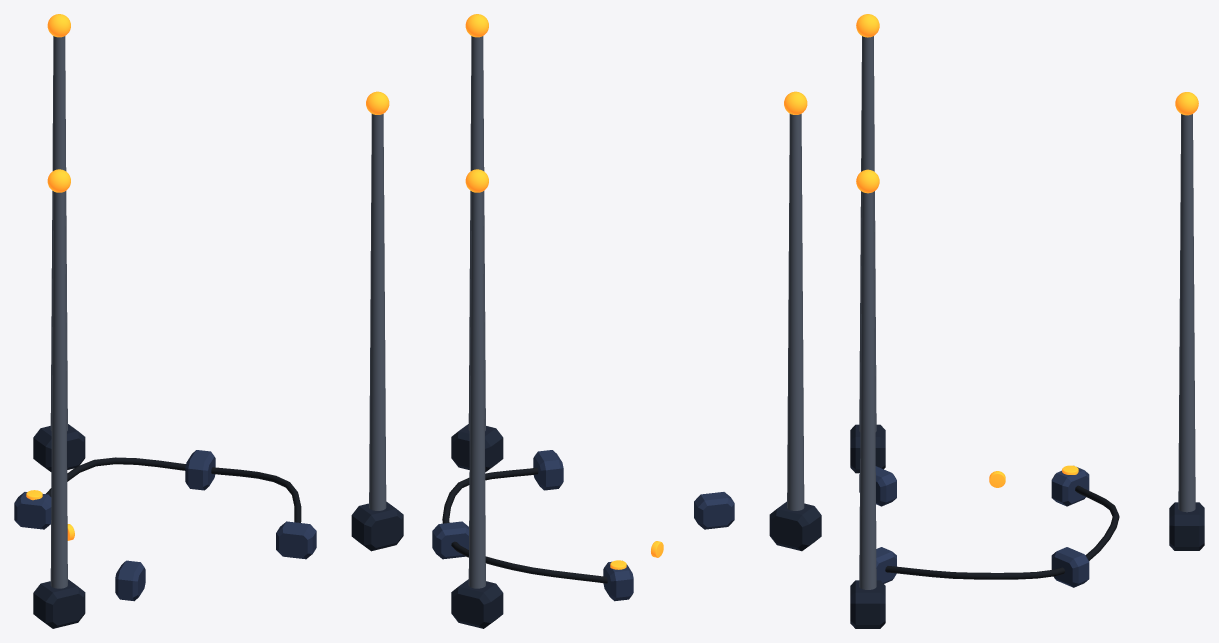
File: tower_overclock_network_s4.glb
3 renders of one model, left to right at view 1: azimuth 30°, elevation 25°; view 2: azimuth 150°, elevation 25°; view 3: azimuth 270°, elevation 25°, orthographic.
Parts seen in each view (by area): view 1: overclock_antenna2, overclock_antenna1, overclock_antenna0, overclock_antenna_foot2, overclock_antenna_foot1, overclock_relay_cable, overclock_antenna_foot0, overclock_relay2, overclock_relay0, overclock_relay3, overclock_relay1; view 2: overclock_antenna0, overclock_antenna2, overclock_antenna1, overclock_antenna_foot0, overclock_antenna_foot2, overclock_relay_cable, overclock_antenna_foot1, overclock_relay3, overclock_relay1, overclock_relay2, overclock_relay0; view 3: overclock_antenna1, overclock_antenna0, overclock_antenna2, overclock_relay_cable, overclock_antenna_foot1, overclock_antenna_foot0, overclock_relay1, overclock_relay0, overclock_antenna_foot2, overclock_relay3, overclock_relay2.
Boxes of the visible parts, x1=… form: overclock_antenna2: x1=50, y1=191, x2=67, y2=588; overclock_antenna1: x1=369, y1=114, x2=386, y2=510; overclock_antenna0: x1=50, y1=36, x2=67, y2=430; overclock_antenna_foot2: x1=33, y1=579, x2=85, y2=628; overclock_antenna_foot1: x1=351, y1=501, x2=403, y2=551; overclock_relay_cable: x1=46, y1=457, x2=301, y2=522; overclock_antenna_foot0: x1=33, y1=424, x2=85, y2=471; overclock_relay2: x1=276, y1=521, x2=316, y2=559; overclock_relay0: x1=14, y1=492, x2=51, y2=529; overclock_relay3: x1=115, y1=560, x2=145, y2=601; overclock_relay1: x1=185, y1=450, x2=215, y2=490; overclock_antenna0: x1=468, y1=191, x2=485, y2=588; overclock_antenna2: x1=787, y1=114, x2=804, y2=510; overclock_antenna1: x1=468, y1=36, x2=485, y2=430; overclock_antenna_foot0: x1=451, y1=579, x2=503, y2=628; overclock_antenna_foot2: x1=769, y1=501, x2=821, y2=551; overclock_relay_cable: x1=442, y1=467, x2=607, y2=583; overclock_antenna_foot1: x1=451, y1=424, x2=503, y2=471; overclock_relay3: x1=694, y1=492, x2=734, y2=529; overclock_relay1: x1=432, y1=521, x2=468, y2=559; overclock_relay2: x1=533, y1=450, x2=563, y2=490; overclock_relay0: x1=603, y1=561, x2=633, y2=601; overclock_antenna1: x1=859, y1=192, x2=876, y2=589; overclock_antenna0: x1=1178, y1=114, x2=1195, y2=512; overclock_antenna2: x1=859, y1=36, x2=876, y2=431; overclock_relay_cable: x1=885, y1=485, x2=1119, y2=579; overclock_antenna_foot1: x1=850, y1=580, x2=885, y2=628; overclock_antenna_foot0: x1=1169, y1=502, x2=1204, y2=550; overclock_relay1: x1=1051, y1=547, x2=1089, y2=587; overclock_relay0: x1=1051, y1=467, x2=1089, y2=506; overclock_antenna_foot2: x1=850, y1=424, x2=885, y2=473; overclock_relay3: x1=859, y1=466, x2=896, y2=506; overclock_relay2: x1=876, y1=547, x2=896, y2=583.
Size of the model in its own units: 1.4 by 1.69 by 1.2.
